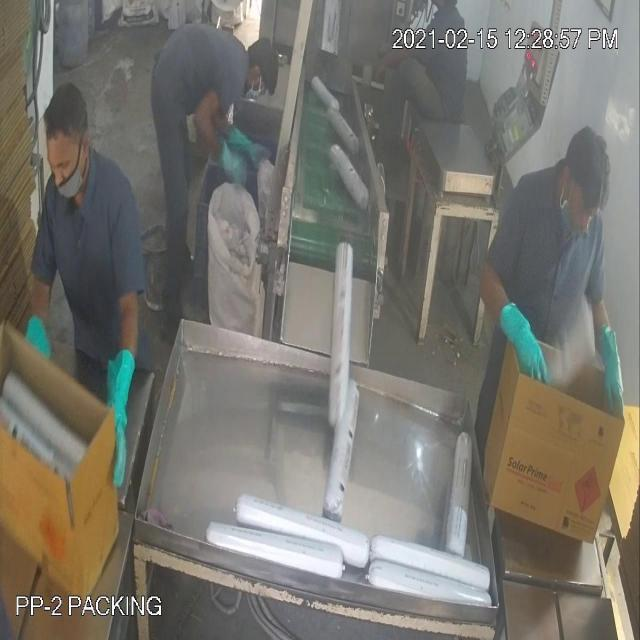No_Gloves: (46, 42, 608, 419)
